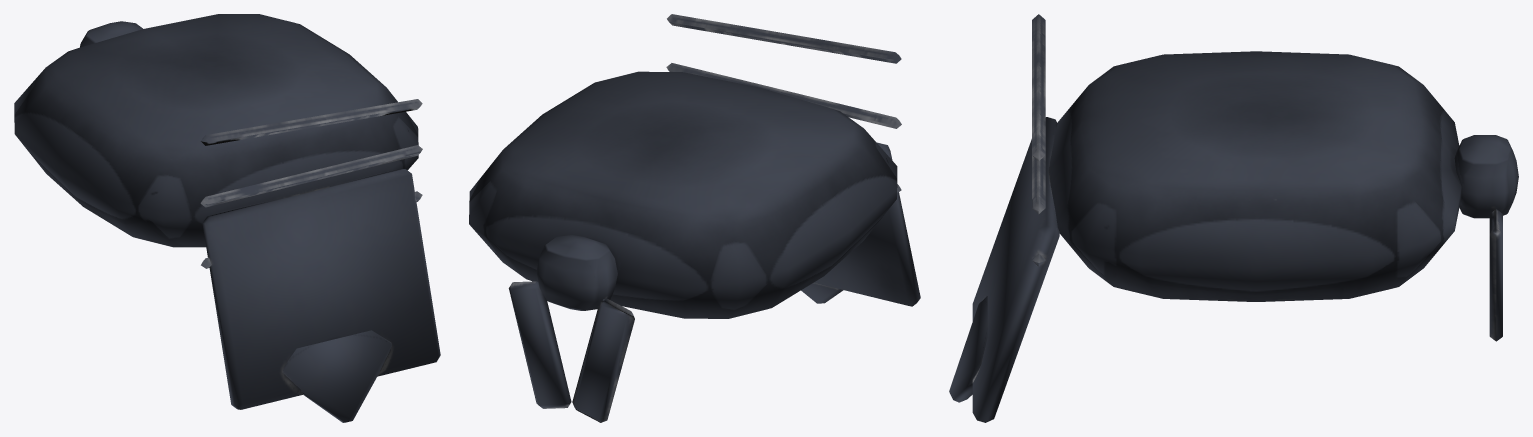
The model's file is Maton_Panuelo.fbx.
3 views of the same model, side by side, from view 1: azimuth 30°, elevation 25°; view 2: azimuth 150°, elevation 25°; view 3: azimuth 270°, elevation 25° (orthographic). The views are drawn at different scales.
Parts seen in each view (by area): view 1: Maton_Panuelo; view 2: Maton_Panuelo; view 3: Maton_Panuelo.
Boxes of the visible parts, x1,y1,x2,y2 form: Maton_Panuelo: (14,14,440,422); Maton_Panuelo: (469,14,920,422); Maton_Panuelo: (949,14,1518,422).
Size of the model in its own units: 1.31 by 1.14 by 1.8.
